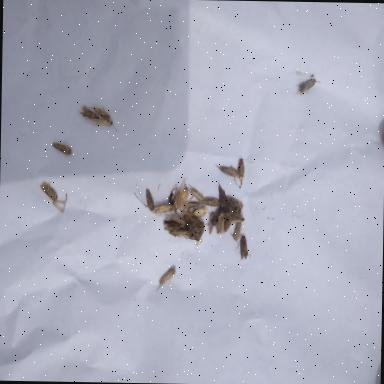pbw: (132, 184, 156, 210), (156, 263, 176, 291), (298, 73, 322, 94), (216, 161, 242, 180), (40, 179, 58, 201), (52, 139, 74, 156), (153, 200, 176, 215), (217, 186, 229, 212), (168, 228, 194, 240), (186, 182, 204, 199), (234, 195, 244, 225), (232, 216, 244, 241), (236, 158, 246, 186), (239, 234, 250, 258), (204, 210, 216, 232), (194, 206, 212, 220), (216, 210, 226, 234), (174, 189, 182, 216), (204, 196, 222, 206), (162, 221, 183, 228)
